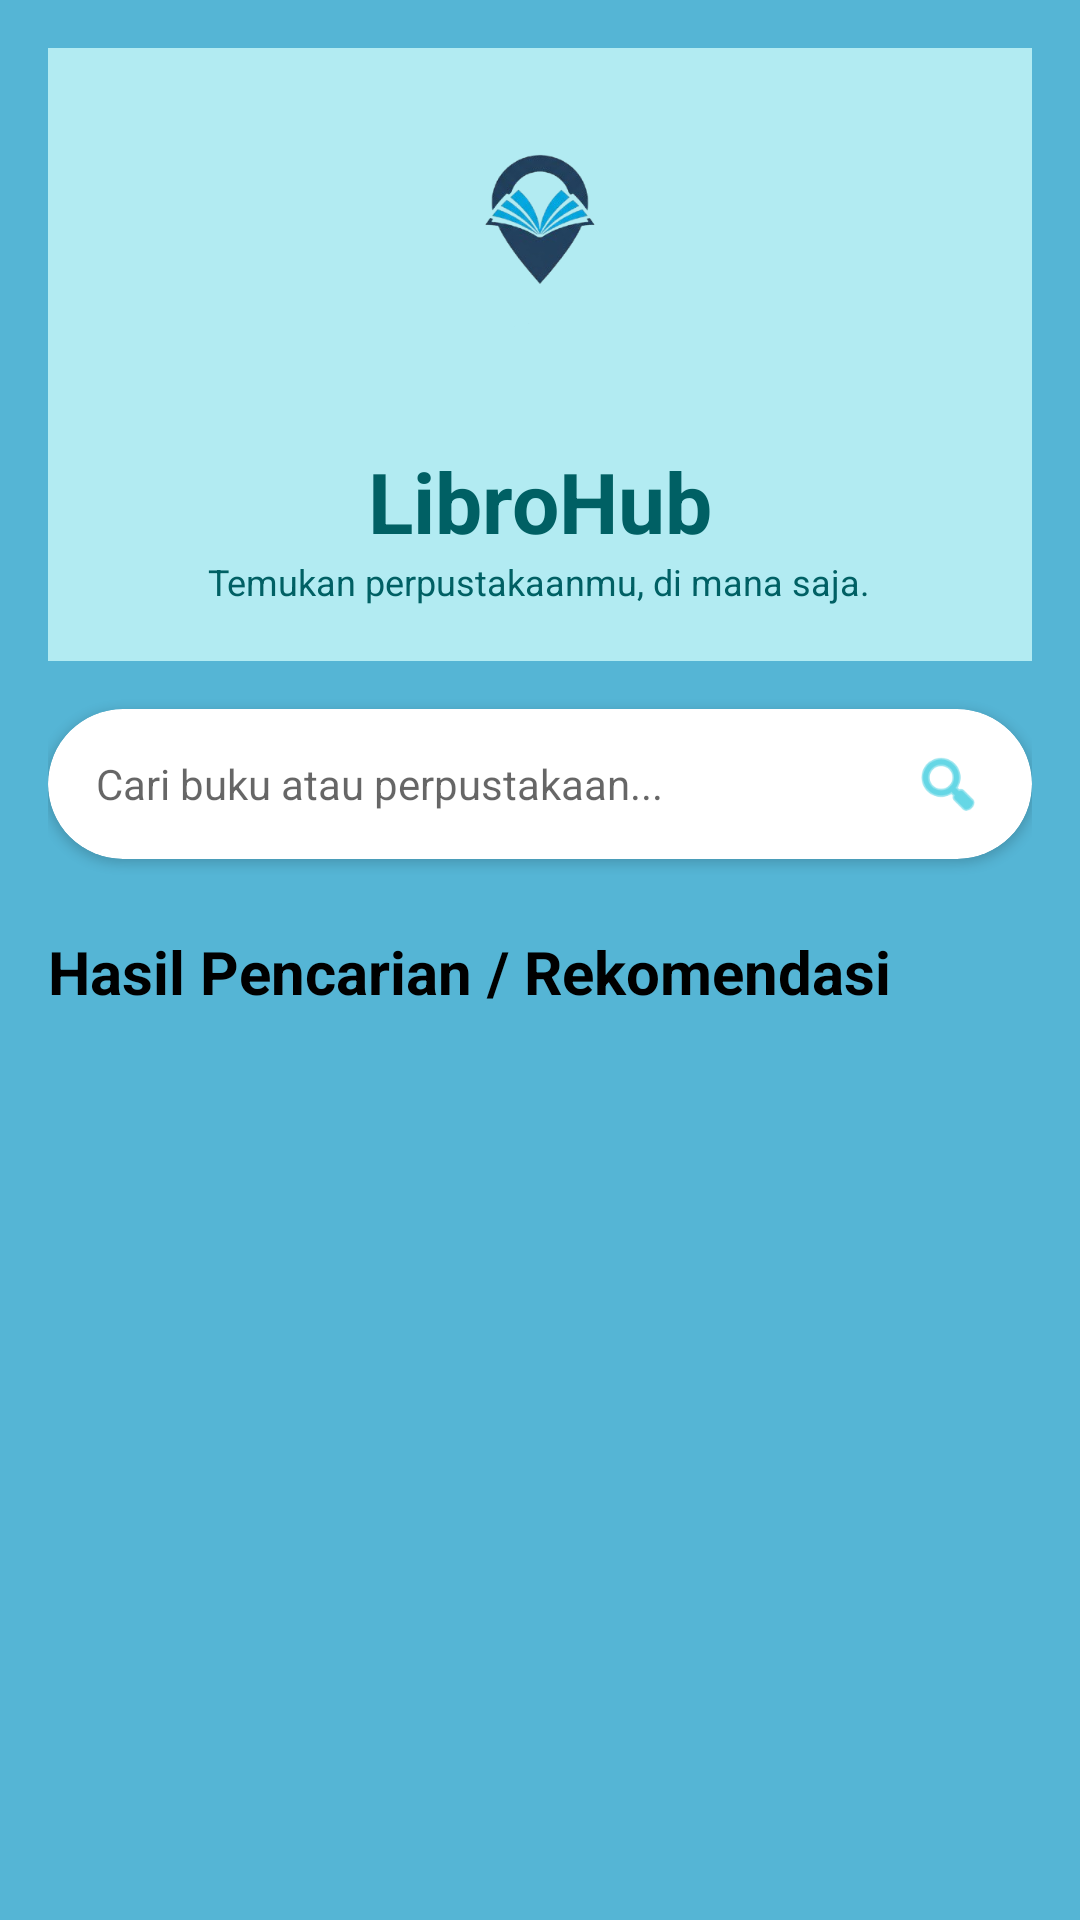

Icons on this 1080x1920 Android screen, each with its box as [x1=x1, y1=y1, x2=x2, y2=y2]:
search: [x1=921, y1=758, x2=975, y2=811]
